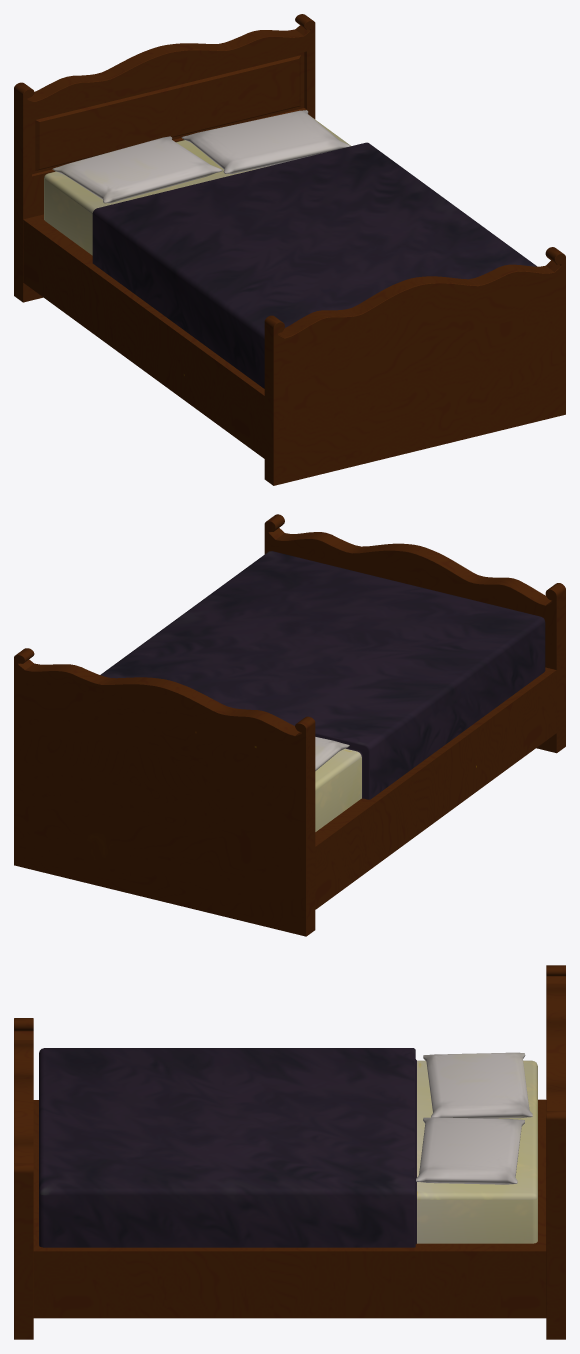
The model's file is Colchón.fbx.
3 views of the same model, one above another, from view 1: azimuth 30°, elevation 25°; view 2: azimuth 150°, elevation 25°; view 3: azimuth 270°, elevation 25° (orthographic). The views are drawn at different scales.
Parts seen in each view (by area): view 1: Colchón.001; view 2: Colchón.001; view 3: Colchón.001.
Boxes of the visible parts, box(x1,y1,x2,y2) form: Colchón.001: box(14, 14, 565, 485); Colchón.001: box(14, 514, 565, 936); Colchón.001: box(14, 965, 565, 1339).
Bounding box in the file's own units: 1.18 × 0.8239 × 1.81.
